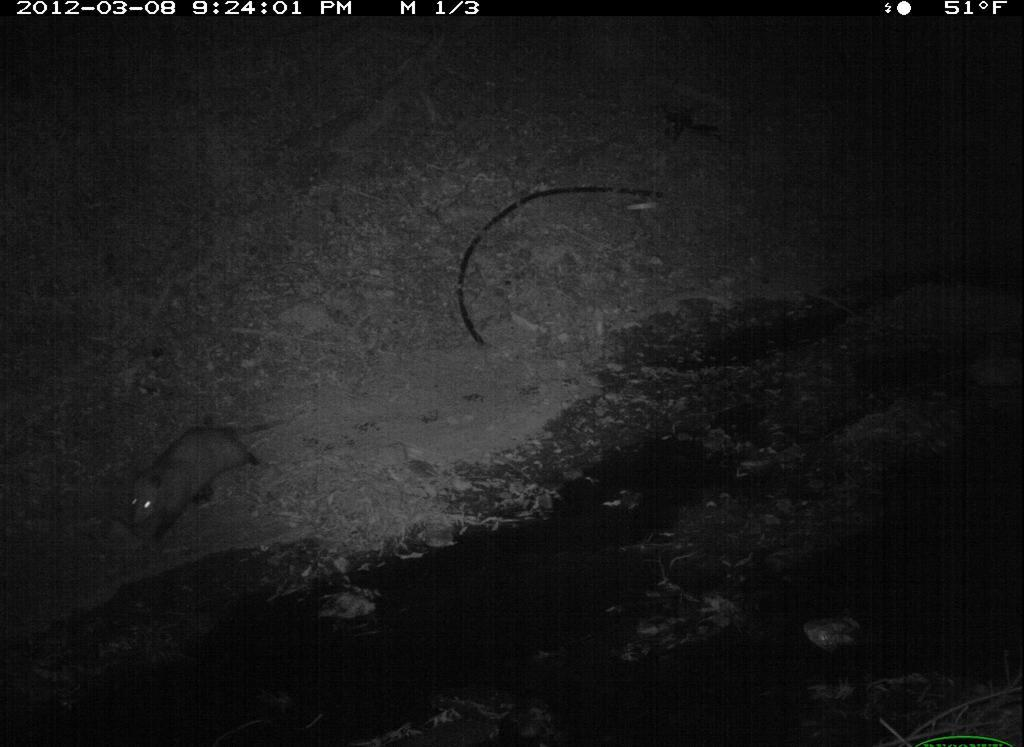opossum: (120, 405, 292, 547)
